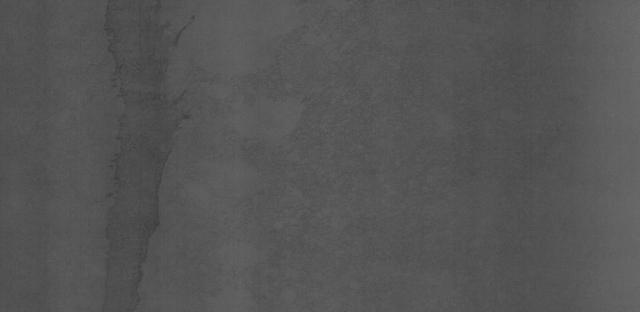water_spot: (96, 0, 225, 312)
